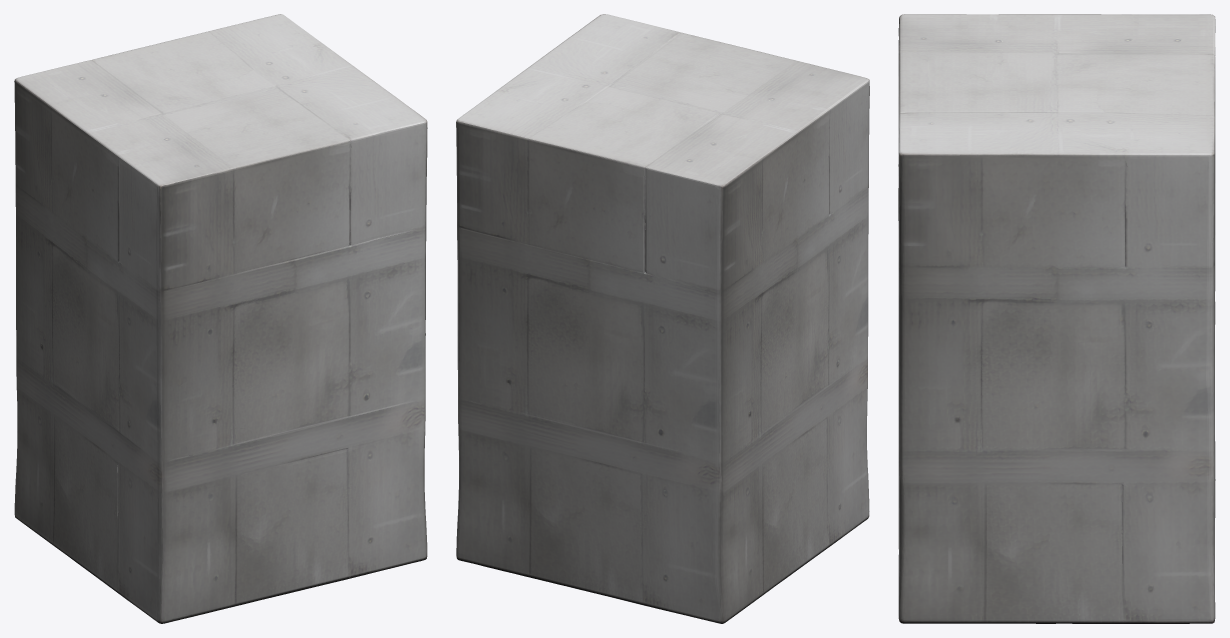
3 renders of one model, left to right at view 1: azimuth 30°, elevation 25°; view 2: azimuth 150°, elevation 25°; view 3: azimuth 270°, elevation 25°, orthographic. The views are drawn at different scales.
Visible parts, largest first — view 1: world; view 2: world; view 3: world.
Boxes of the visible parts, x1=… form: world: x1=14, y1=14, x2=427, y2=623; world: x1=456, y1=14, x2=869, y2=623; world: x1=898, y1=14, x2=1215, y2=623.
Bounding box in the file's own units: 0.6428 × 1 × 0.6111.
1 material, 1 textured.
